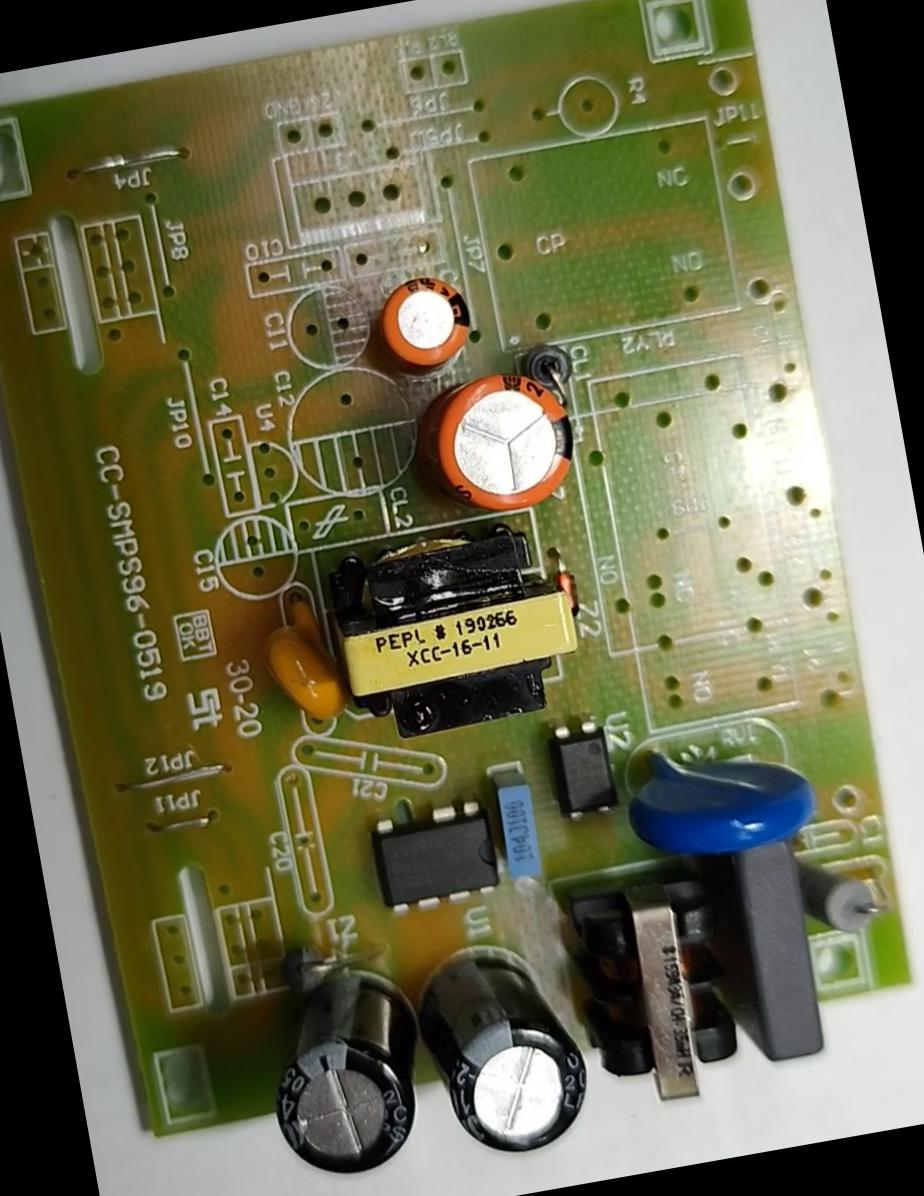Cap1: (408, 350, 591, 526)
Cap2: (365, 260, 482, 376)
Cap3: (401, 926, 605, 1174)
Cap4: (239, 948, 436, 1187)
MOSFET: (362, 788, 514, 923)
Mov: (610, 714, 832, 874)
Resistor: (789, 840, 889, 944)
Transformer: (306, 511, 594, 752), (547, 858, 758, 1126)
